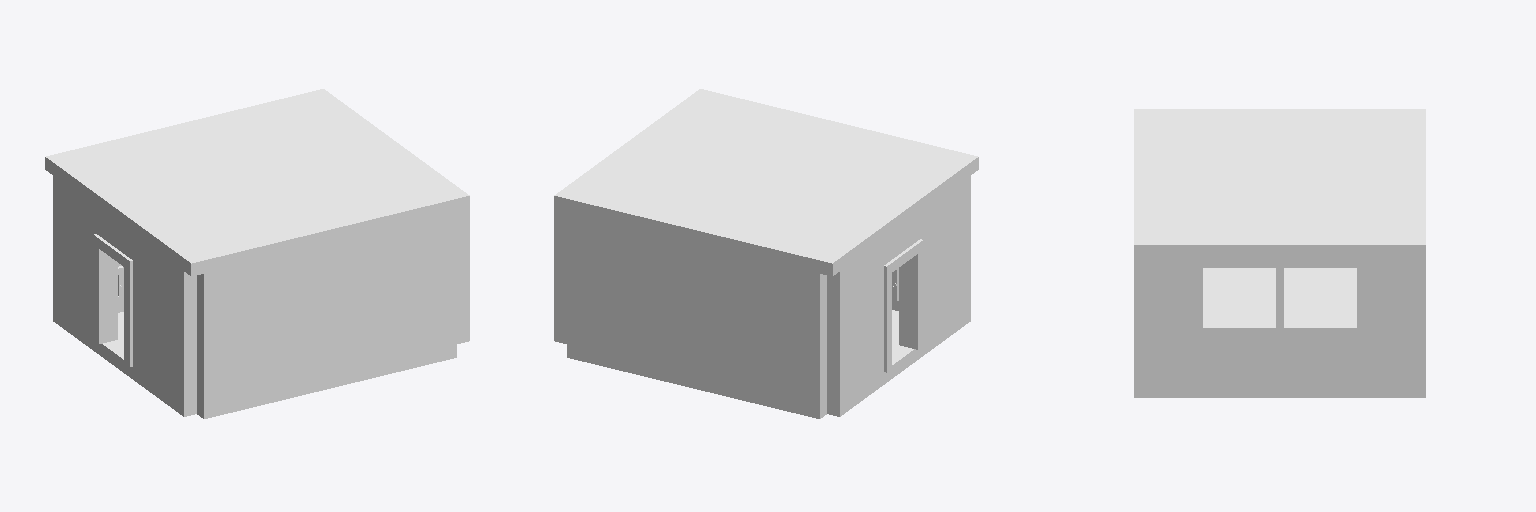
The model's file is kitchen-main-scene.obj.
3 renders of one model, left to right at view 1: azimuth 30°, elevation 25°; view 2: azimuth 150°, elevation 25°; view 3: azimuth 270°, elevation 25°, orthographic.
Visible parts, largest first — view 1: wall.png, ceiling.png, paintwork.png, floor.png; view 2: wall.png, ceiling.png, paintwork.png, floor.png; view 3: ceiling.png, wall.png, floor.png, work-surface.png, paintwork.png.
Part boxes in pixels (bbox=[...]): wall.png: bbox=[53, 176, 469, 418]; ceiling.png: bbox=[45, 89, 469, 276]; paintwork.png: bbox=[93, 234, 132, 366]; floor.png: bbox=[53, 308, 196, 416]; wall.png: bbox=[554, 176, 970, 418]; ceiling.png: bbox=[554, 89, 978, 276]; paintwork.png: bbox=[884, 239, 922, 372]; floor.png: bbox=[827, 308, 970, 416]; ceiling.png: bbox=[1134, 109, 1425, 257]; wall.png: bbox=[1134, 258, 1425, 397]; floor.png: bbox=[1148, 268, 1411, 397]; work-surface.png: bbox=[1203, 308, 1356, 324]; paintwork.png: bbox=[1200, 265, 1359, 330].
Bounding box in the file's own units: 356 × 192 × 320.